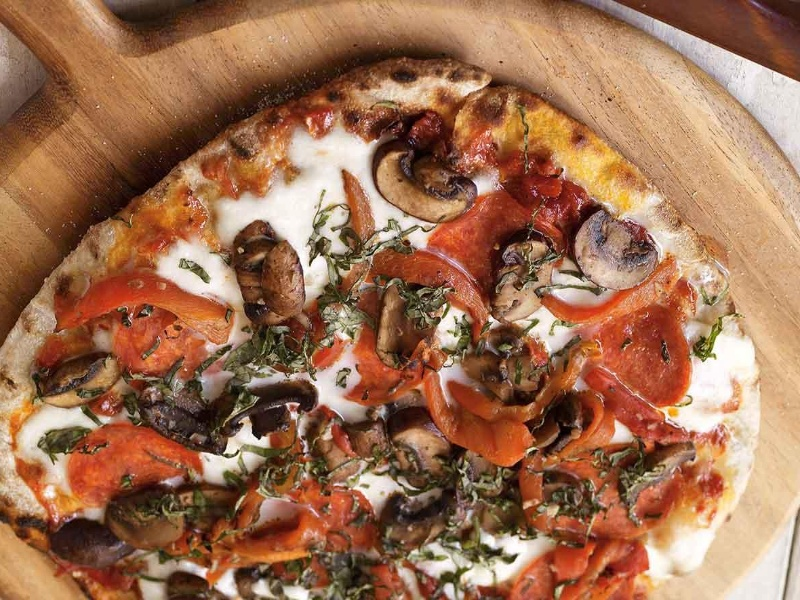champignon: (363, 133, 479, 235), (569, 203, 658, 292), (29, 347, 127, 411)
